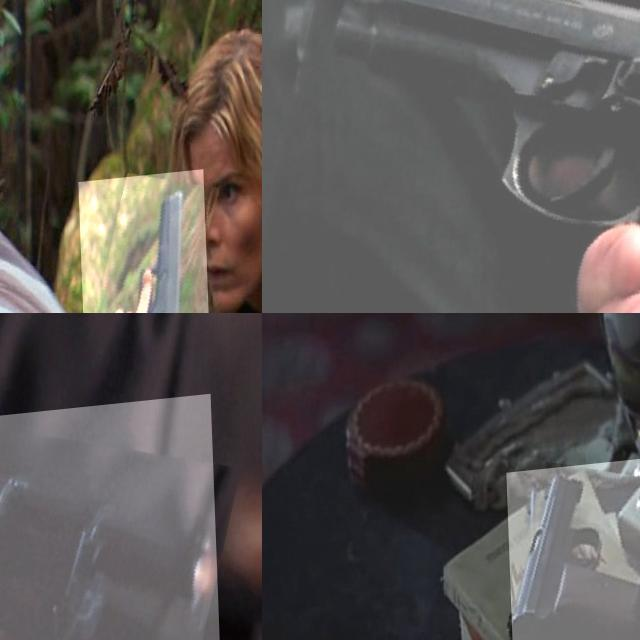gun-knife-thesis - v11 Yolov5 augmented: (262, 0, 640, 313), (0, 406, 223, 640), (504, 466, 640, 640), (76, 176, 208, 313)
